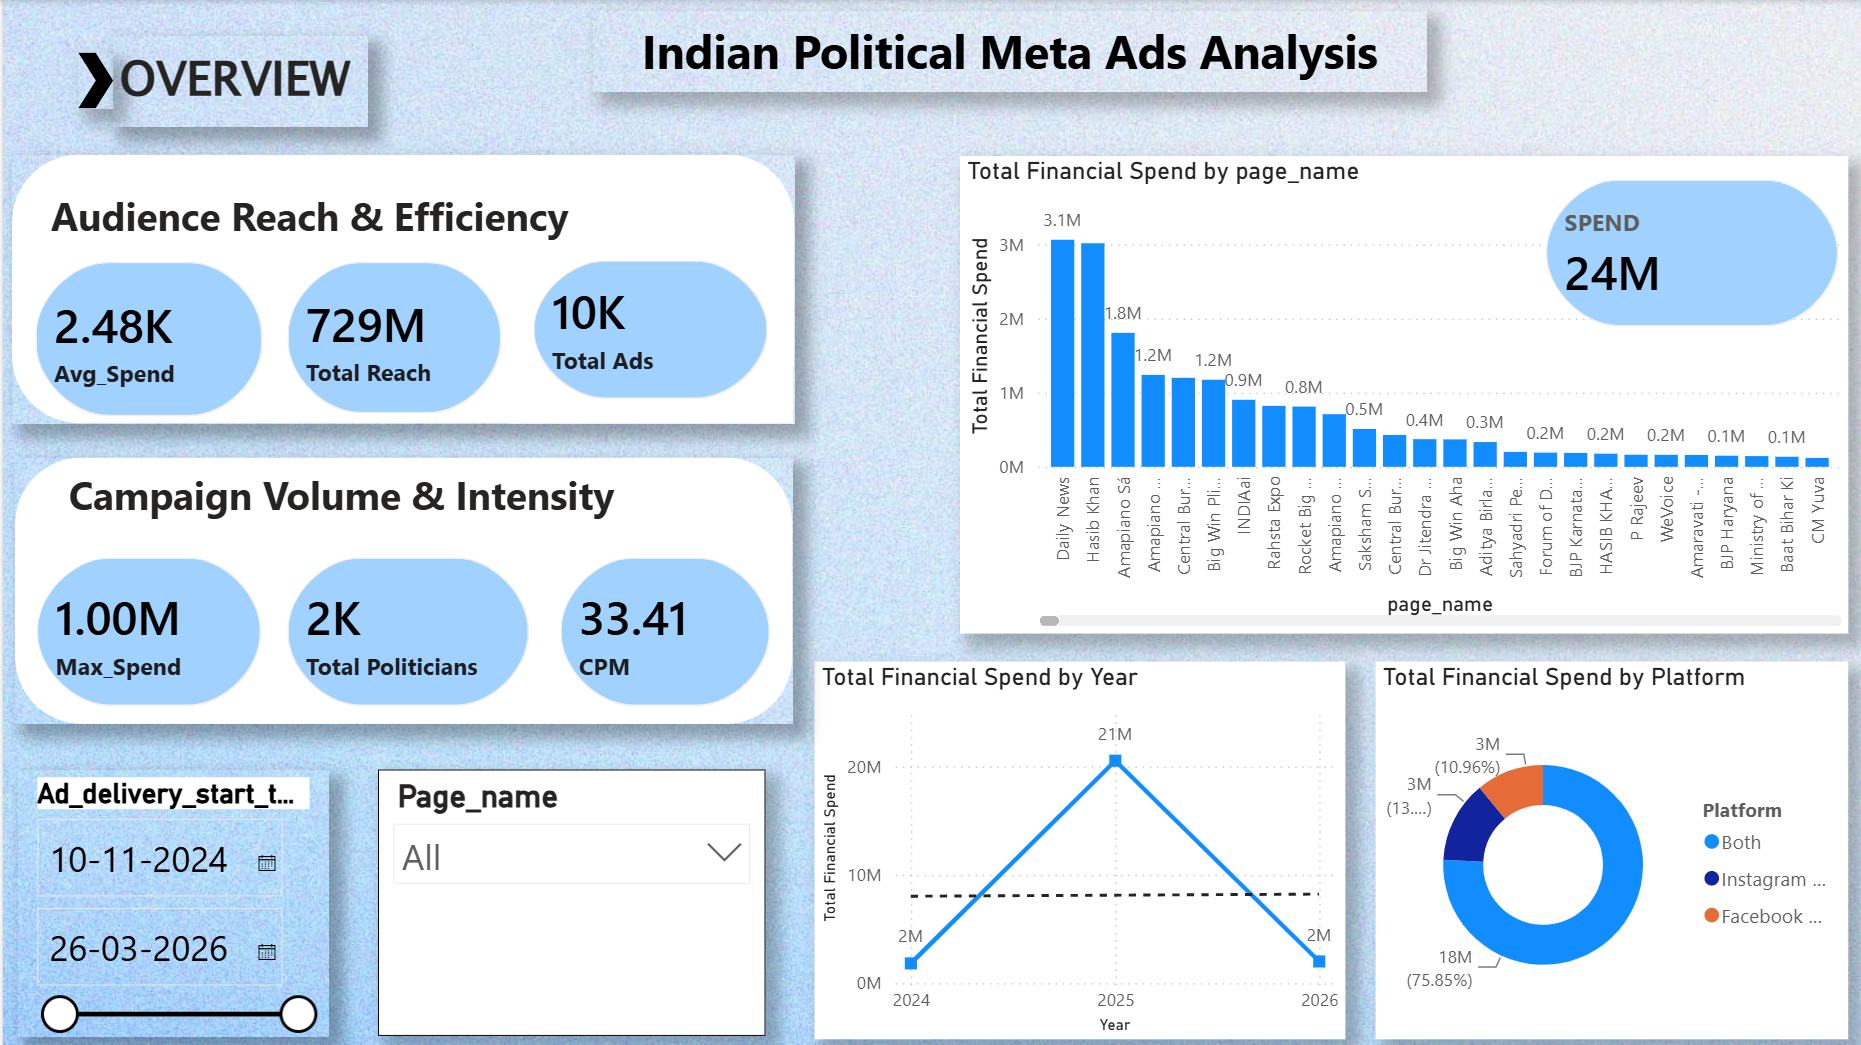

The page's visual inventory and layout, read from the dashboard file:
{"tool":"powerbi","page":{"name":"Overview","canvas":[1280,720],"ordinal":0},"visuals":[{"type":"slicer","fields":{"Values":["Fact_Ads.ad_delivery_start_time"]},"box":[10,530,213.8,183.8],"z":0},{"type":"textbox","box":[405.7,7.1,574.3,55.7],"z":1000},{"type":"columnChart","fields":{"Category":["Dim_Advertiser.page_name"],"Y":["Fact_Ads.Total Financial Spend"]},"box":[658.6,107.1,611.4,328.6],"z":2000},{"type":"lineChart","fields":{"Category":["Fact_Ads.ad_delivery_start_time.Variation.Date Hierarchy.Year"],"Y":["Fact_Ads.Total Financial Spend"]},"box":[558.3,455,365,260],"z":4000},{"type":"donutChart","fields":{"Category":["Fact_Ads.Platform"],"Y":["Fact_Ads.Total Financial Spend"]},"box":[945,455,325,260],"z":5000},{"type":"cardVisual","fields":{"Data":["Fact_Ads.Total Financial Spend"]},"box":[1045,106.7,235,135],"z":6000},{"type":"shape","box":[6.7,106.7,538.3,185],"z":7000},{"type":"cardVisual","fields":{"Data":["Fact_Ads.Total Ads"]},"box":[348,161.9,195.7,129.3],"z":8000},{"type":"cardVisual","fields":{"Data":["Fact_Ads.Total Reach"]},"box":[178.3,163.3,181.7,138.3],"z":9000},{"type":"cardVisual","fields":{"Data":["Avg(Fact_Ads.avg_spend)"]},"box":[5,163.3,190,140],"z":10000},{"type":"shape","box":[8.3,315,535,183.3],"z":11000},{"type":"cardVisual","fields":{"Data":["Fact_Ads.Total Politicians"]},"box":[178.3,366.7,200,136.7],"z":12000},{"type":"cardVisual","fields":{"Data":["Fact_Ads.CPM"]},"box":[366.7,366.7,178.3,136.7],"z":13000},{"type":"cardVisual","fields":{"Data":["Fact_Ads.Max_Spend"]},"box":[6.7,366.7,188.3,136.7],"z":14000},{"type":"textbox","box":[28.3,125,390,50],"z":15000},{"type":"textbox","box":[40,316.7,421.7,50],"z":16000},{"type":"textbox","box":[75.7,24.3,175.7,62.9],"z":17000},{"type":"shape","box":[51.4,35.7,24.3,38.6],"z":18000},{"type":"slicer","fields":{"Values":["Dim_Advertiser.page_name"]},"box":[258.3,530,266.7,183.3],"z":18001}]}

Visuals, with their boxes in screenshot pixels (x1, y1, x2, y2), scaled from the page's 1280x720 canvas onto the 1861x1045 screenshot:
slicer - Fact_Ads.ad_delivery_start_time: [x1=15, y1=769, x2=325, y2=1036]
textbox: [x1=590, y1=10, x2=1425, y2=91]
columnChart - Dim_Advertiser.page_name x Fact_Ads.Total Financial Spend: [x1=958, y1=155, x2=1846, y2=632]
lineChart - Fact_Ads.ad_delivery_start_time.Variation.Date Hierarchy.Year x Fact_Ads.Total Financial Spend: [x1=812, y1=660, x2=1342, y2=1038]
donutChart - Fact_Ads.Platform x Fact_Ads.Total Financial Spend: [x1=1374, y1=660, x2=1846, y2=1038]
cardVisual - Fact_Ads.Total Financial Spend: [x1=1519, y1=155, x2=1860, y2=351]
shape: [x1=10, y1=155, x2=792, y2=423]
cardVisual - Fact_Ads.Total Ads: [x1=506, y1=235, x2=790, y2=423]
cardVisual - Fact_Ads.Total Reach: [x1=259, y1=237, x2=523, y2=438]
cardVisual - Avg(Fact_Ads.avg_spend): [x1=7, y1=237, x2=284, y2=440]
shape: [x1=12, y1=457, x2=790, y2=723]
cardVisual - Fact_Ads.Total Politicians: [x1=259, y1=532, x2=550, y2=731]
cardVisual - Fact_Ads.CPM: [x1=533, y1=532, x2=792, y2=731]
cardVisual - Fact_Ads.Max_Spend: [x1=10, y1=532, x2=284, y2=731]
textbox: [x1=41, y1=181, x2=608, y2=254]
textbox: [x1=58, y1=460, x2=671, y2=532]
textbox: [x1=110, y1=35, x2=366, y2=127]
shape: [x1=75, y1=52, x2=110, y2=108]
slicer - Dim_Advertiser.page_name: [x1=376, y1=769, x2=763, y2=1035]
